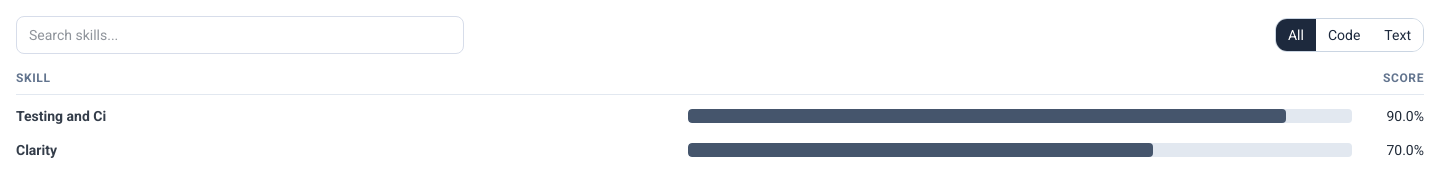
Scenario: SkillsOverview › filters to code skills when Code clicked
This screenshot has width=1440, height=175.
What coordinates should you click on to do the following:
click the button "Code"
I would click on:
 (1344, 35)
Its box is [1316,19,1372,51].
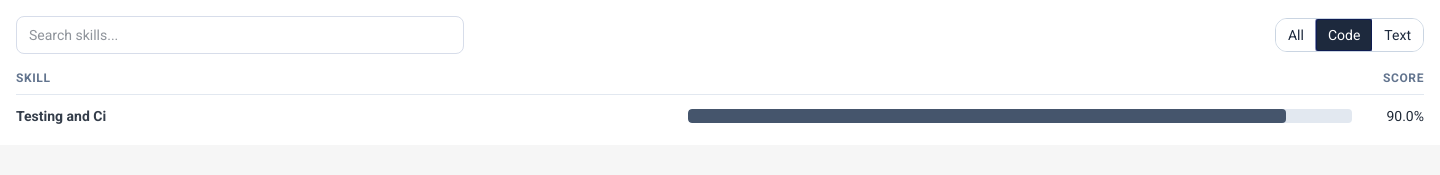
Expected: the text "Testing and Ci" is shown, [16,106,106,126]
Expected: the text "Clarity" is gone
